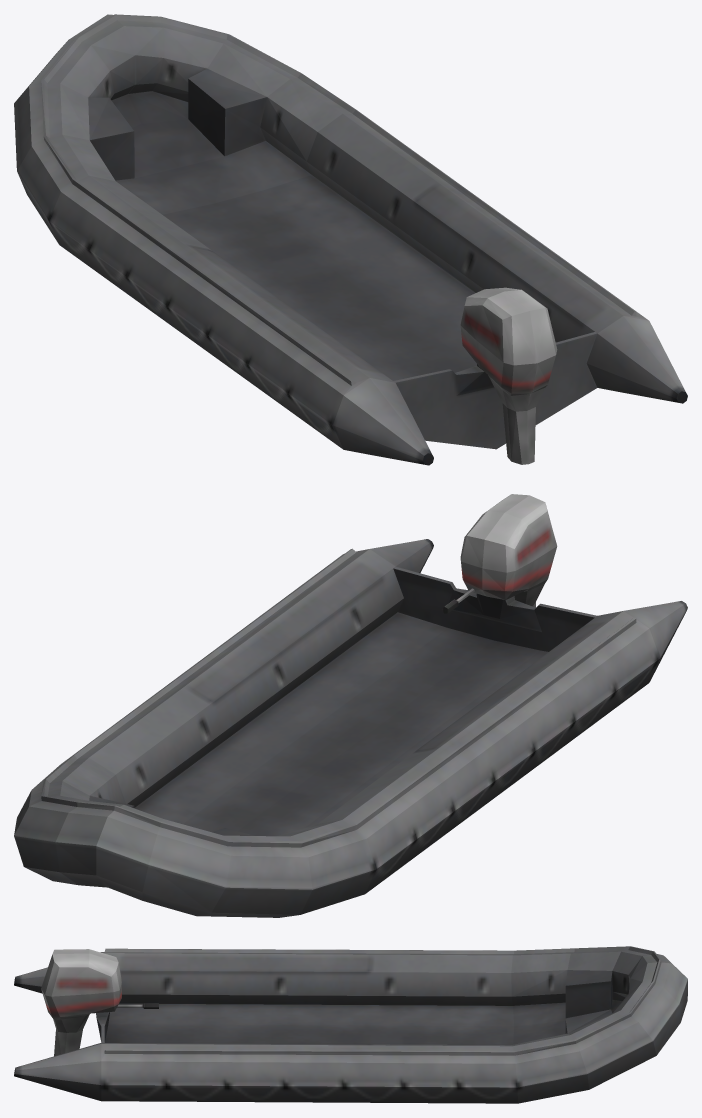
Rendered from crrc.DAE.
3 views of the same model, one above another, from view 1: azimuth 30°, elevation 25°; view 2: azimuth 150°, elevation 25°; view 3: azimuth 270°, elevation 25° (orthographic). The views are drawn at different scales.
Visible parts, largest first — view 1: hull; view 2: hull; view 3: hull.
Boxes of the visible parts, x1,y1,x2,y2 form: hull: [14, 14, 687, 465]; hull: [14, 494, 687, 917]; hull: [14, 946, 687, 1103].
Size of the model in its own units: 1.9 by 0.9076 by 4.62.
1 material, 1 textured.
